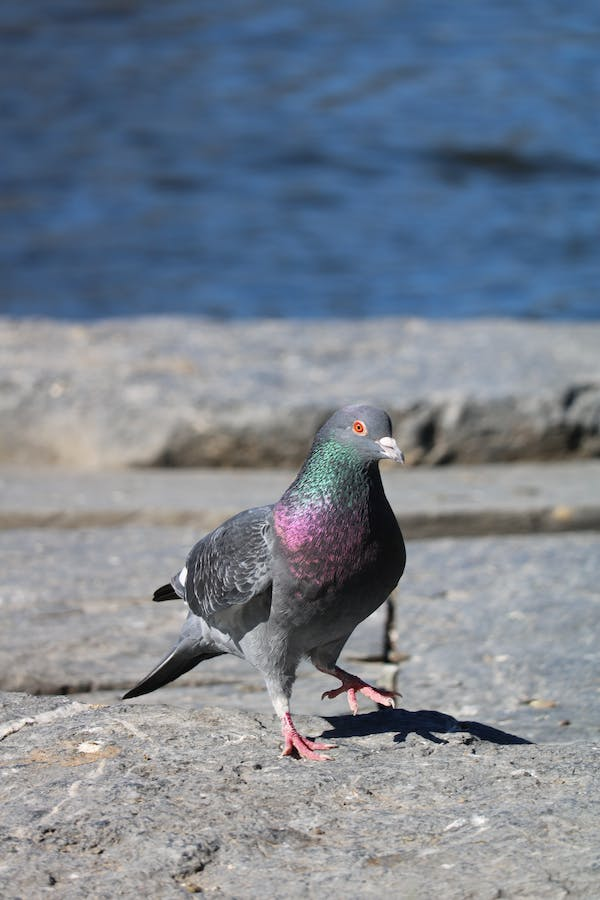Walking: (74, 343, 491, 817)
